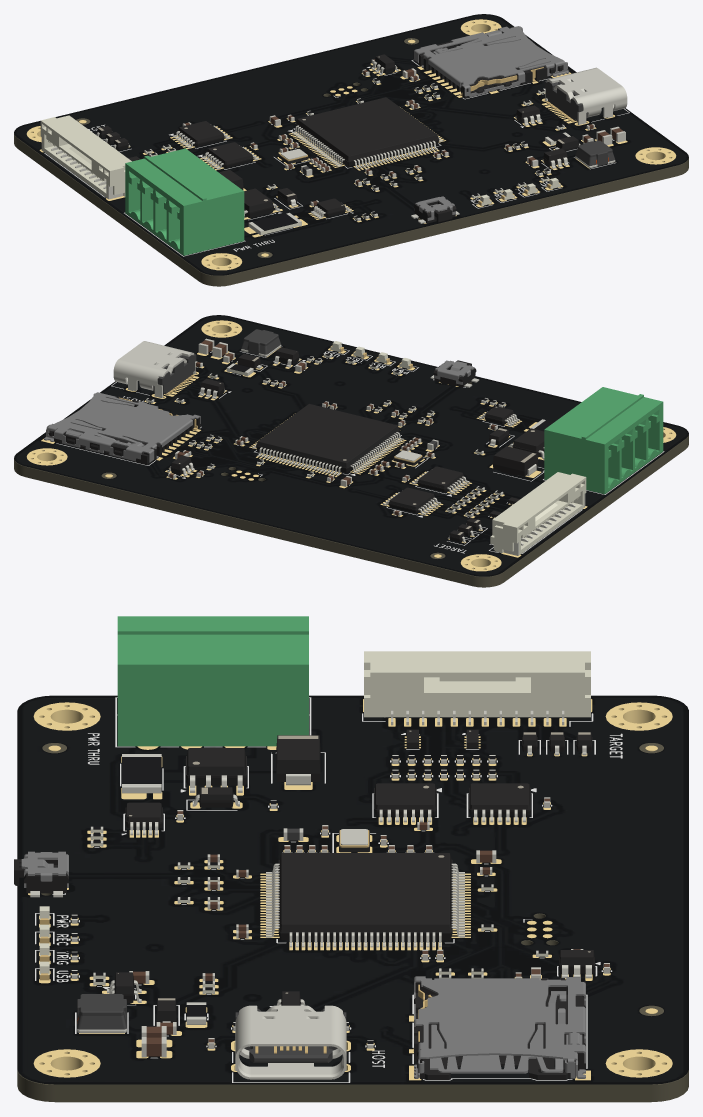
The model's file is blackbox-reva.glb.
3 views of the same model, one above another, from view 1: azimuth 30°, elevation 25°; view 2: azimuth 150°, elevation 25°; view 3: azimuth 270°, elevation 25° (orthographic). The views are drawn at different scales.
Parts seen in each view (by area): view 1: Solder mask (top), =>[0:1:1:13], =>[0:1:1:35], =>[0:1:1:9].022, Board, =>[0:1:1:41], Copper (ENIG), =>[0:1:1:33], =>[0:1:1:53], =>[0:1:1:5], Silkscreen, =>[0:1:1:29]; view 2: Solder mask (top), =>[0:1:1:13], =>[0:1:1:35], =>[0:1:1:9].022, Board, =>[0:1:1:41], Copper (ENIG), =>[0:1:1:33], =>[0:1:1:53], Silkscreen, =>[0:1:1:5], =>[0:1:1:29]; view 3: Solder mask (top), =>[0:1:1:13], =>[0:1:1:35], =>[0:1:1:9].022, =>[0:1:1:41], =>[0:1:1:33], Copper (ENIG), Board, Silkscreen, =>[0:1:1:53], =>[0:1:1:29], =>[0:1:1:5].
Part boxes in pixels (box(x1,y1,x2,y2)): Solder mask (top): box(14, 14, 688, 275); =>[0:1:1:13]: box(97, 32, 578, 223); =>[0:1:1:35]: box(125, 148, 244, 255); =>[0:1:1:9].022: box(96, 59, 627, 235); Board: box(14, 38, 688, 286); =>[0:1:1:41]: box(414, 26, 569, 220); Copper (ENIG): box(26, 19, 676, 270); =>[0:1:1:33]: box(40, 115, 131, 199); =>[0:1:1:53]: box(302, 81, 615, 174); =>[0:1:1:5]: box(146, 67, 575, 235); Silkscreen: box(44, 60, 629, 256); =>[0:1:1:29]: box(146, 78, 567, 230); Solder mask (top): box(14, 315, 688, 576); =>[0:1:1:13]: box(48, 347, 544, 542); =>[0:1:1:35]: box(544, 387, 663, 494); =>[0:1:1:9].022: box(113, 338, 545, 542); Board: box(14, 373, 688, 587); =>[0:1:1:41]: box(44, 360, 475, 462); Copper (ENIG): box(26, 320, 676, 571); =>[0:1:1:33]: box(490, 472, 586, 555); =>[0:1:1:53]: box(153, 329, 437, 448); Silkscreen: box(56, 346, 664, 553); =>[0:1:1:5]: box(119, 341, 505, 516); =>[0:1:1:29]: box(147, 353, 554, 514); Solder mask (top): box(17, 695, 688, 1084); =>[0:1:1:13]: box(14, 729, 594, 1079); =>[0:1:1:35]: box(117, 616, 308, 746); =>[0:1:1:9].022: box(30, 735, 609, 1079); =>[0:1:1:41]: box(21, 851, 585, 1078); =>[0:1:1:33]: box(364, 651, 590, 725); Copper (ENIG): box(28, 699, 672, 1080); Board: box(17, 718, 688, 1102); Silkscreen: box(35, 697, 622, 1082); =>[0:1:1:53]: box(77, 828, 346, 1062); =>[0:1:1:29]: box(71, 756, 545, 1043); =>[0:1:1:5]: box(39, 829, 547, 1053).
Bounding box in the file's own units: 0.074 × 0.0109 × 0.0543.
Materials: 20 (2 with a texture image).
